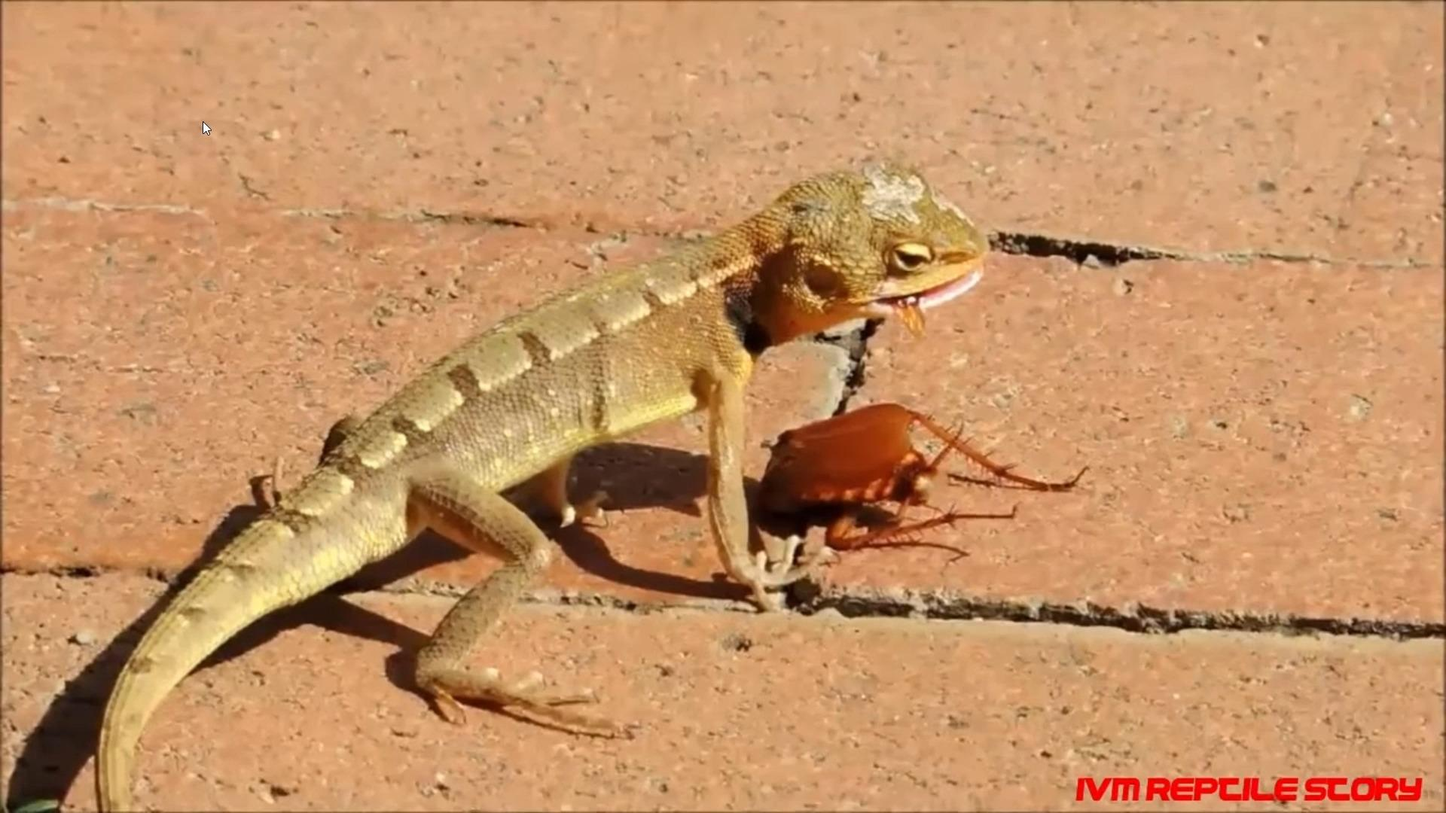cockroach: (756, 408, 985, 567)
lizard: (151, 149, 996, 732)
